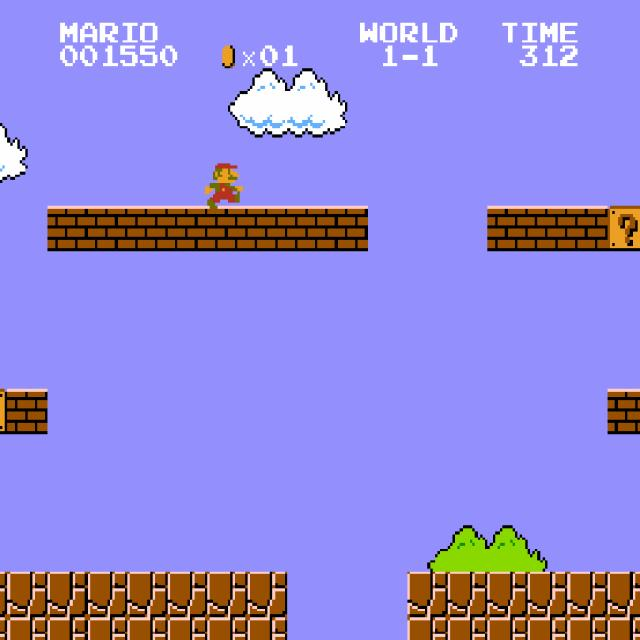brick_block: (7, 389, 48, 434), (47, 206, 88, 251), (87, 206, 128, 251), (127, 206, 168, 251), (167, 206, 208, 251), (207, 206, 248, 251), (247, 206, 288, 251), (287, 206, 328, 251), (327, 206, 368, 251), (487, 206, 528, 251), (527, 206, 568, 251), (567, 206, 608, 251), (607, 388, 640, 434)
little_mario: (203, 160, 245, 208)
mystery_block: (607, 205, 640, 251), (0, 389, 7, 434)
undestructible_block: (7, 572, 48, 617), (47, 572, 88, 617), (87, 572, 128, 617), (127, 572, 168, 617), (167, 572, 208, 617), (207, 572, 248, 617), (247, 572, 288, 617), (407, 572, 448, 617), (447, 572, 488, 617), (487, 572, 528, 617), (527, 572, 568, 617), (567, 572, 608, 617), (607, 571, 640, 617), (7, 617, 48, 640), (47, 617, 88, 640), (87, 617, 128, 640), (127, 617, 168, 640), (167, 617, 208, 640), (207, 617, 248, 640), (247, 617, 288, 640), (407, 617, 448, 640), (447, 617, 488, 640), (487, 617, 528, 640), (527, 617, 568, 640), (567, 617, 608, 640), (607, 617, 640, 639), (0, 572, 7, 617), (0, 617, 7, 640)
